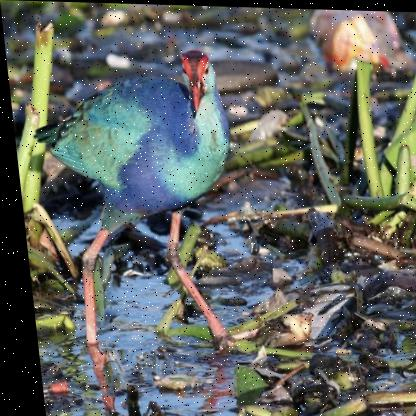Burung: (25, 42, 246, 357)
